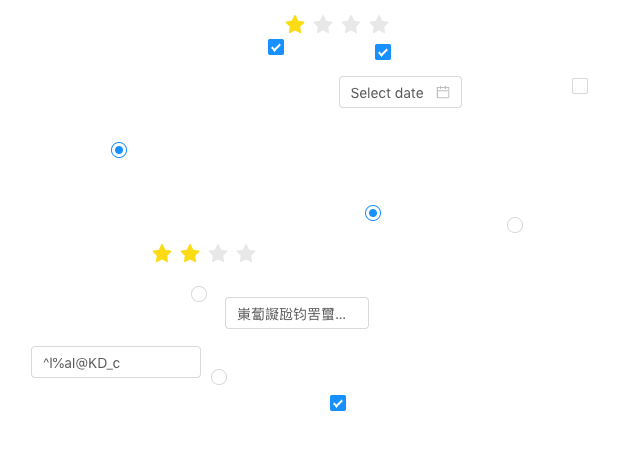Checkbox: (330, 392, 346, 413), (572, 75, 588, 96), (268, 36, 284, 57), (375, 41, 391, 62)
DatePicker: (339, 76, 462, 108)
Input: (31, 346, 201, 378), (225, 297, 369, 329)
Radio: (211, 366, 227, 386), (365, 202, 381, 222), (191, 283, 207, 303), (507, 214, 523, 234), (111, 139, 127, 159)
Rate: (285, 8, 405, 40), (152, 237, 272, 269)
